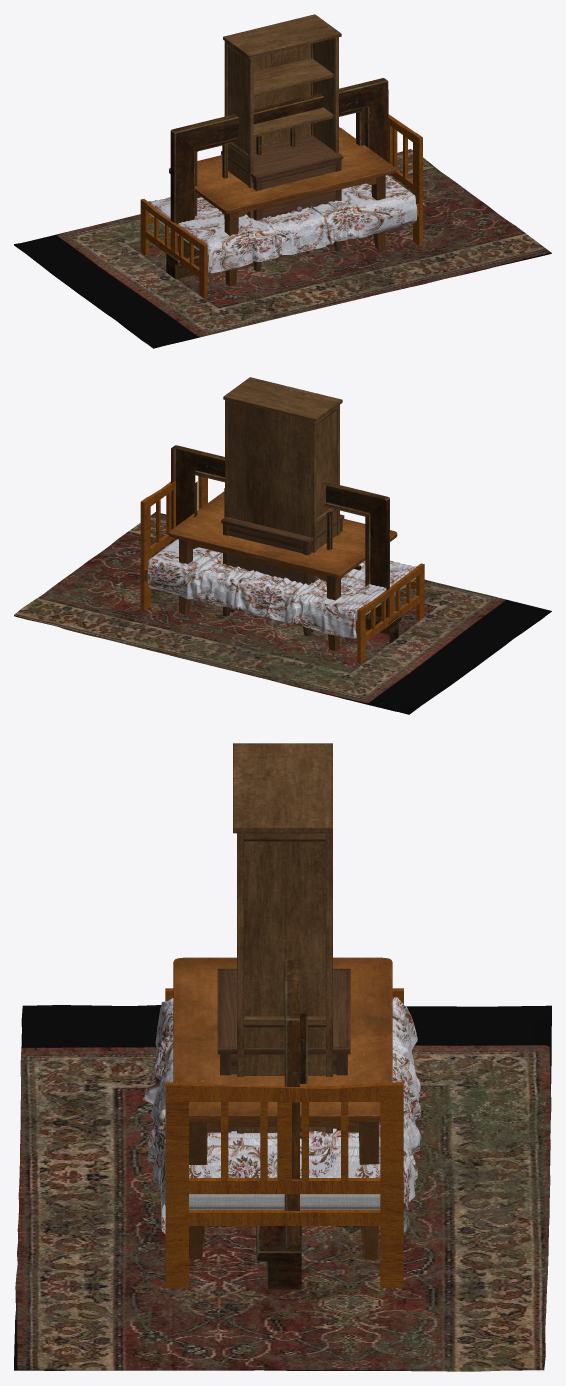
Rendered from furniture.glb.
The picture shows the model from 3 angles, top to bottom: view 1: azimuth 30°, elevation 25°; view 2: azimuth 150°, elevation 25°; view 3: azimuth 270°, elevation 25°; orthographic projection. The views are drawn at different scales.
Visible parts, largest first — view 1: rug, bed, wardrobe, window, desk, nightstand; view 2: rug, wardrobe, bed, desk, window, nightstand; view 3: rug, bed, wardrobe, desk, window, nightstand.
Part boxes in pixels (x1=…): rug: x1=14, y1=149, x2=551, y2=348; bed: x1=139, y1=113, x2=422, y2=298; wardrobe: x1=223, y1=14, x2=341, y2=266; window: x1=166, y1=78, x2=388, y2=279; desk: x1=169, y1=127, x2=395, y2=286; nightstand: x1=221, y1=134, x2=343, y2=271; rug: x1=14, y1=512, x2=551, y2=714; wardrobe: x1=223, y1=377, x2=342, y2=631; bed: x1=140, y1=476, x2=424, y2=663; desk: x1=169, y1=491, x2=397, y2=651; window: x1=170, y1=445, x2=401, y2=643; nightstand: x1=221, y1=514, x2=344, y2=636; rug: x1=14, y1=1005, x2=551, y2=1371; bed: x1=144, y1=988, x2=421, y2=1288; wardrobe: x1=233, y1=743, x2=332, y2=1133; desk: x1=173, y1=957, x2=392, y2=1259; window: x1=256, y1=960, x2=307, y2=1289; nightstand: x1=217, y1=968, x2=350, y2=1226.
Bounding box in the file's own units: 3.59 × 1.85 × 2.23.
13 materials, 13 textured.
